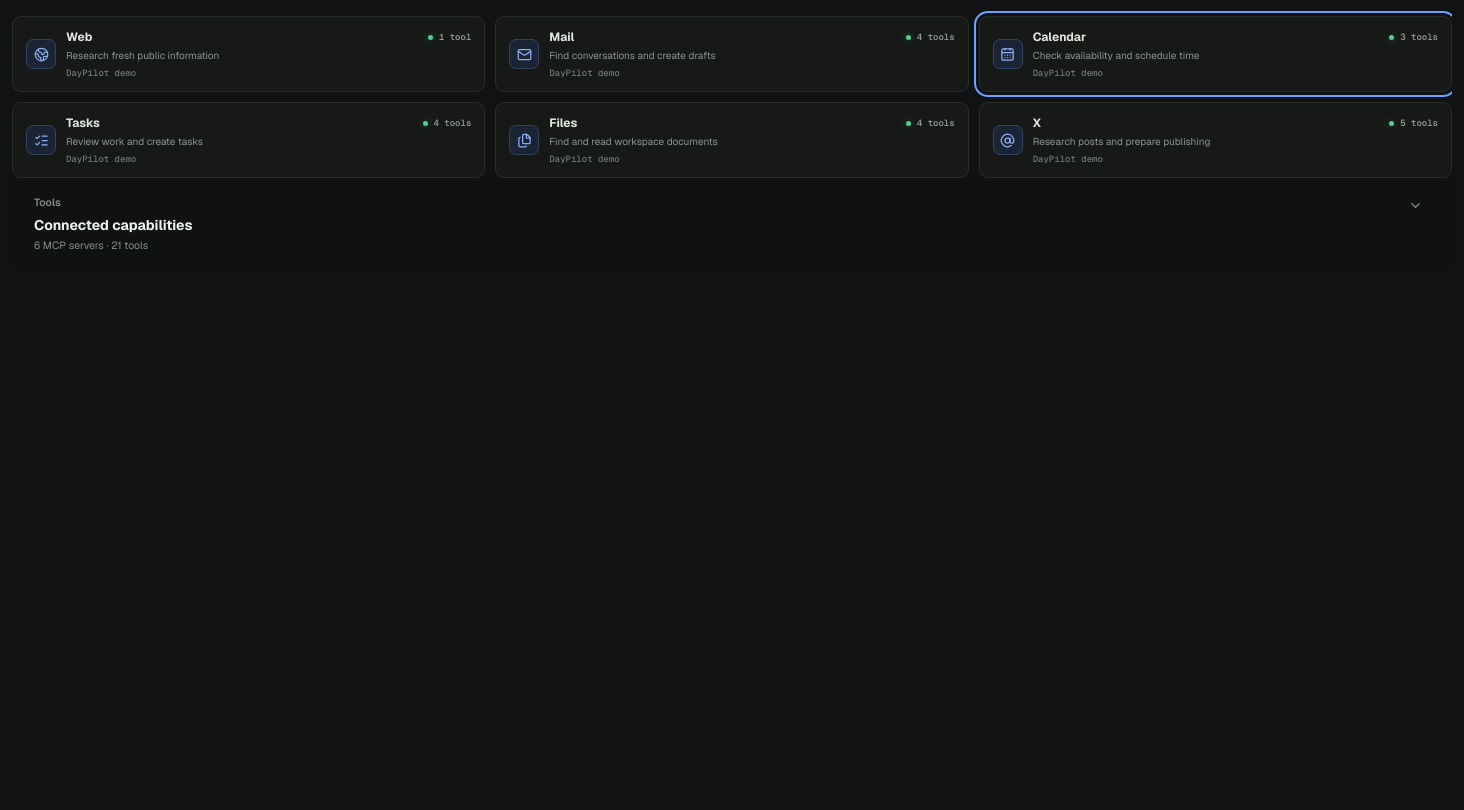
Scenario: DayPilot operations workspace › supports keyboard activation and keeps inspector/card selection in sync
Press Enter
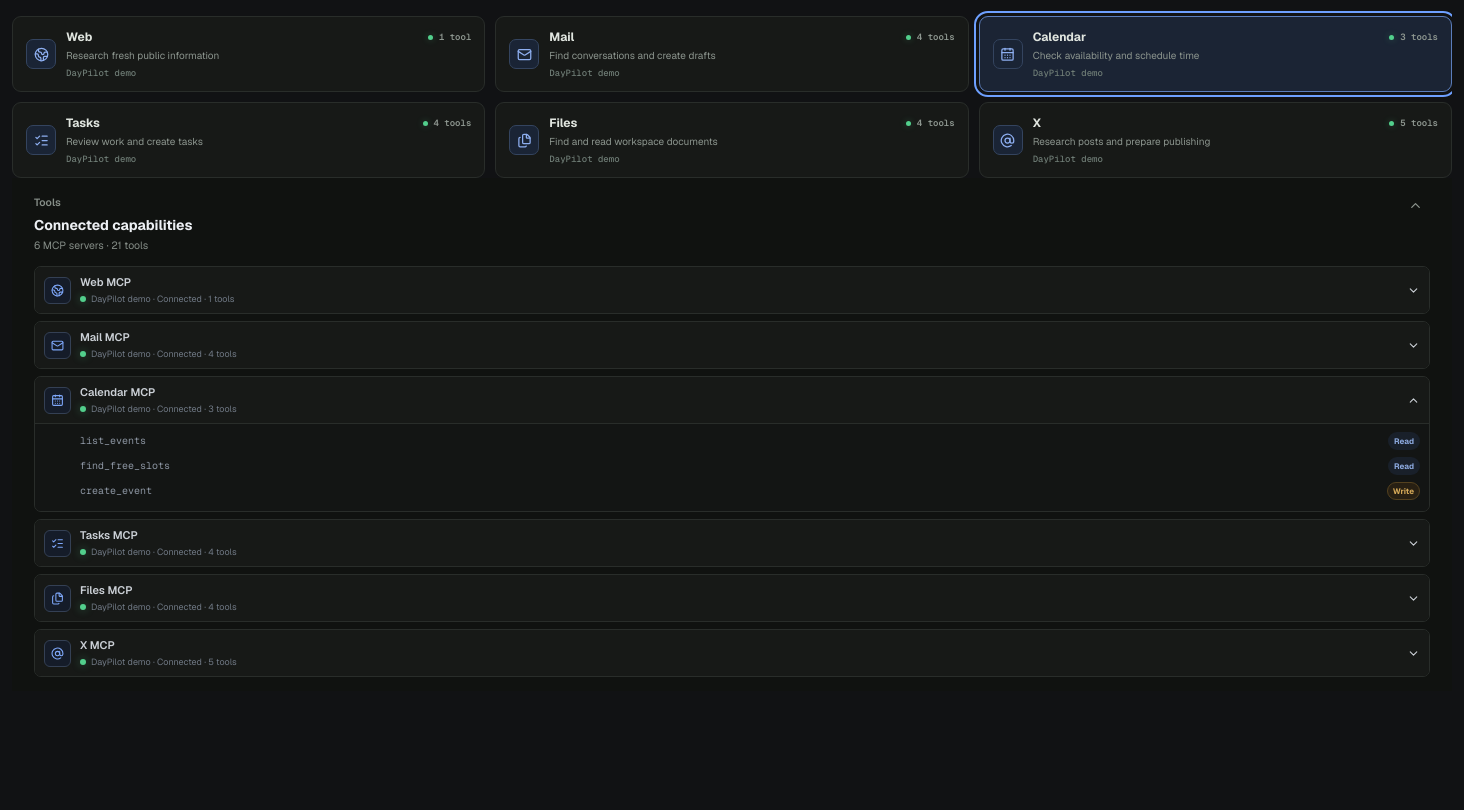
Expected: the button with test id "capability-card-calendar" is pressed, [979,16,1452,92]
Click the button named "collapse connected capabilities".
click(1415, 205)  # box [1400,190,1430,220]
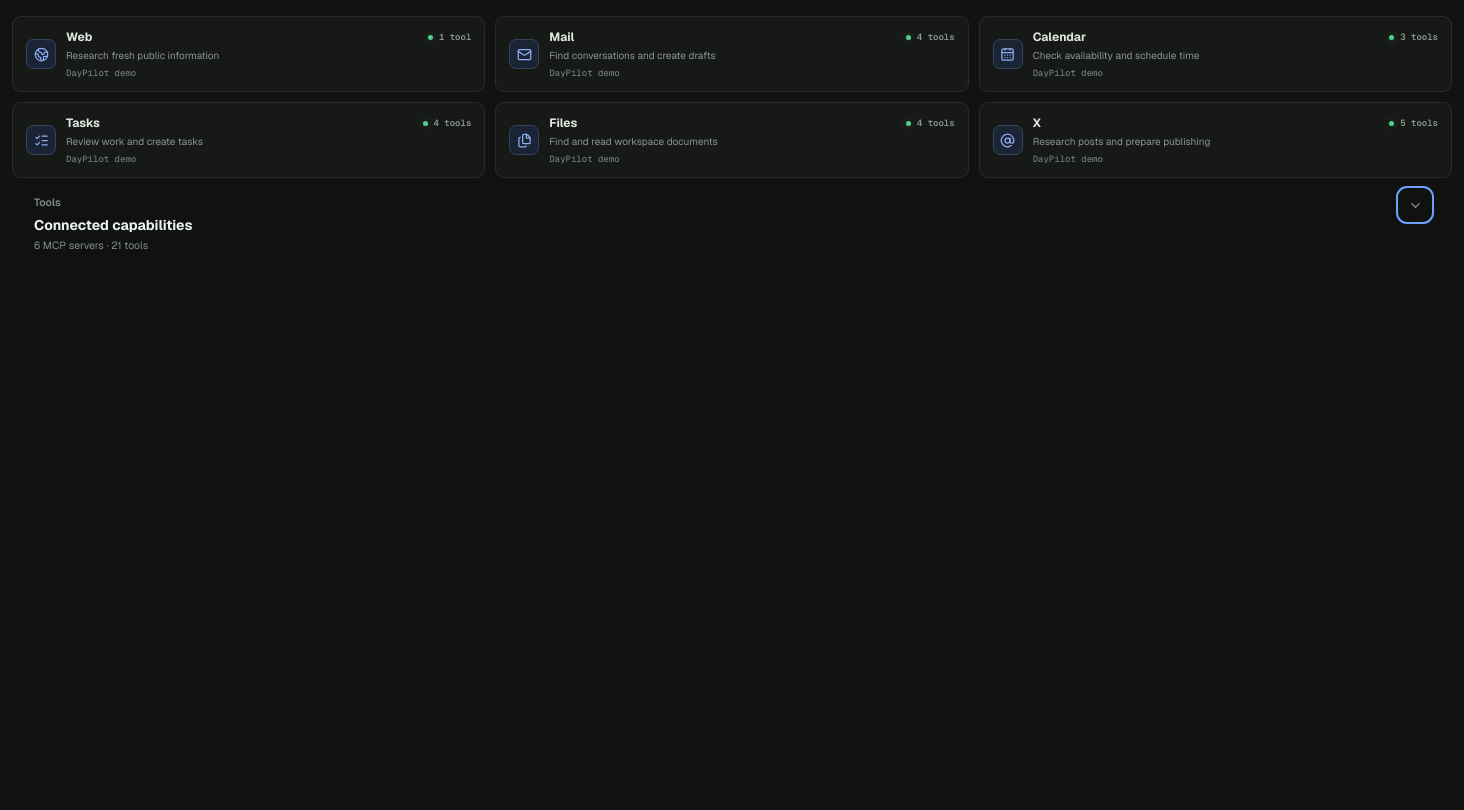
Expected: the button named "expand connected capabilities" is collapsed, [1400,190,1430,220]
